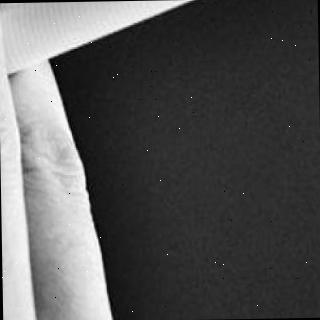smoke: (0, 0, 318, 59)
